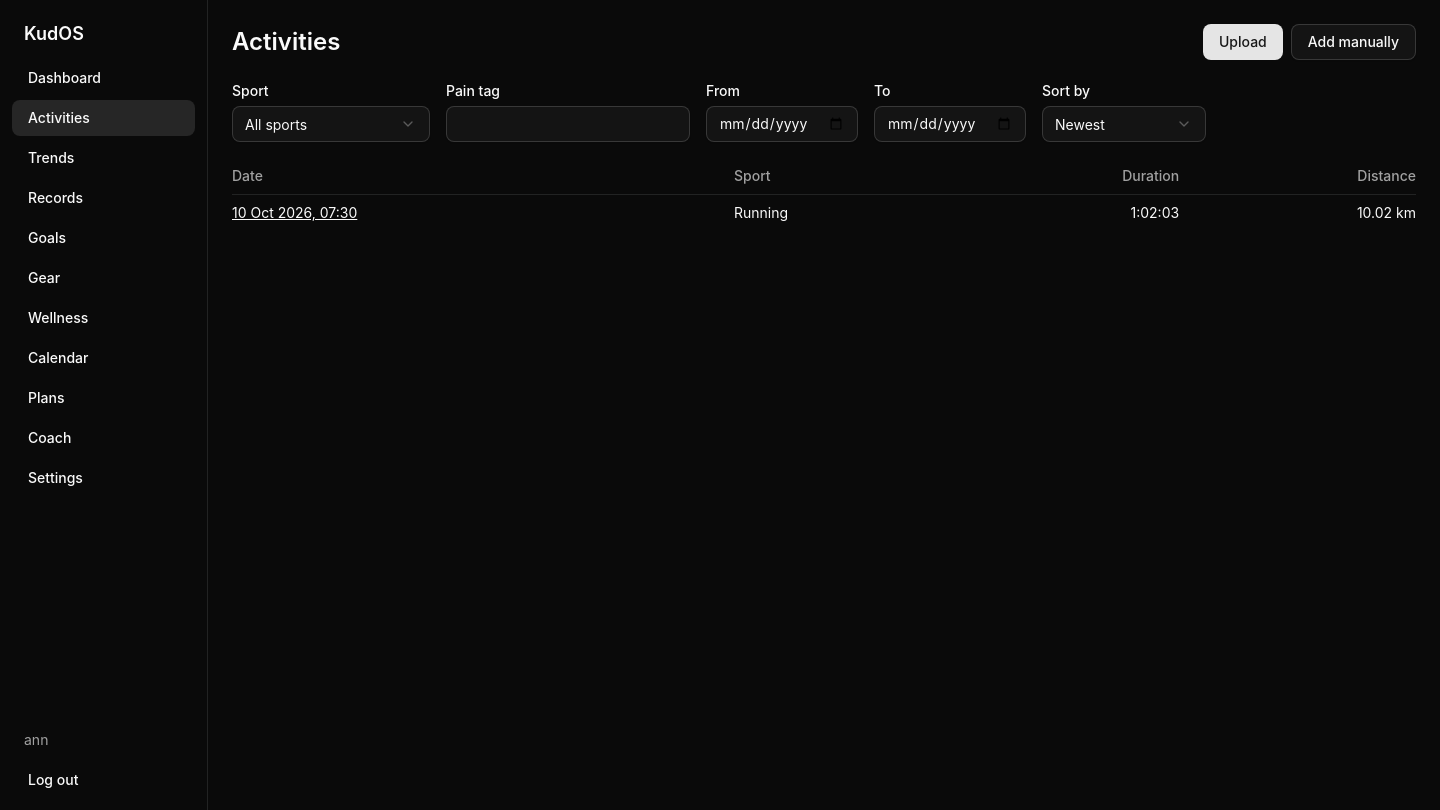
Test: ActivityDetailPage › is reached from the activity list
Click the link "10 Oct 2026, 07:30": (295, 212) [232,204,357,221]
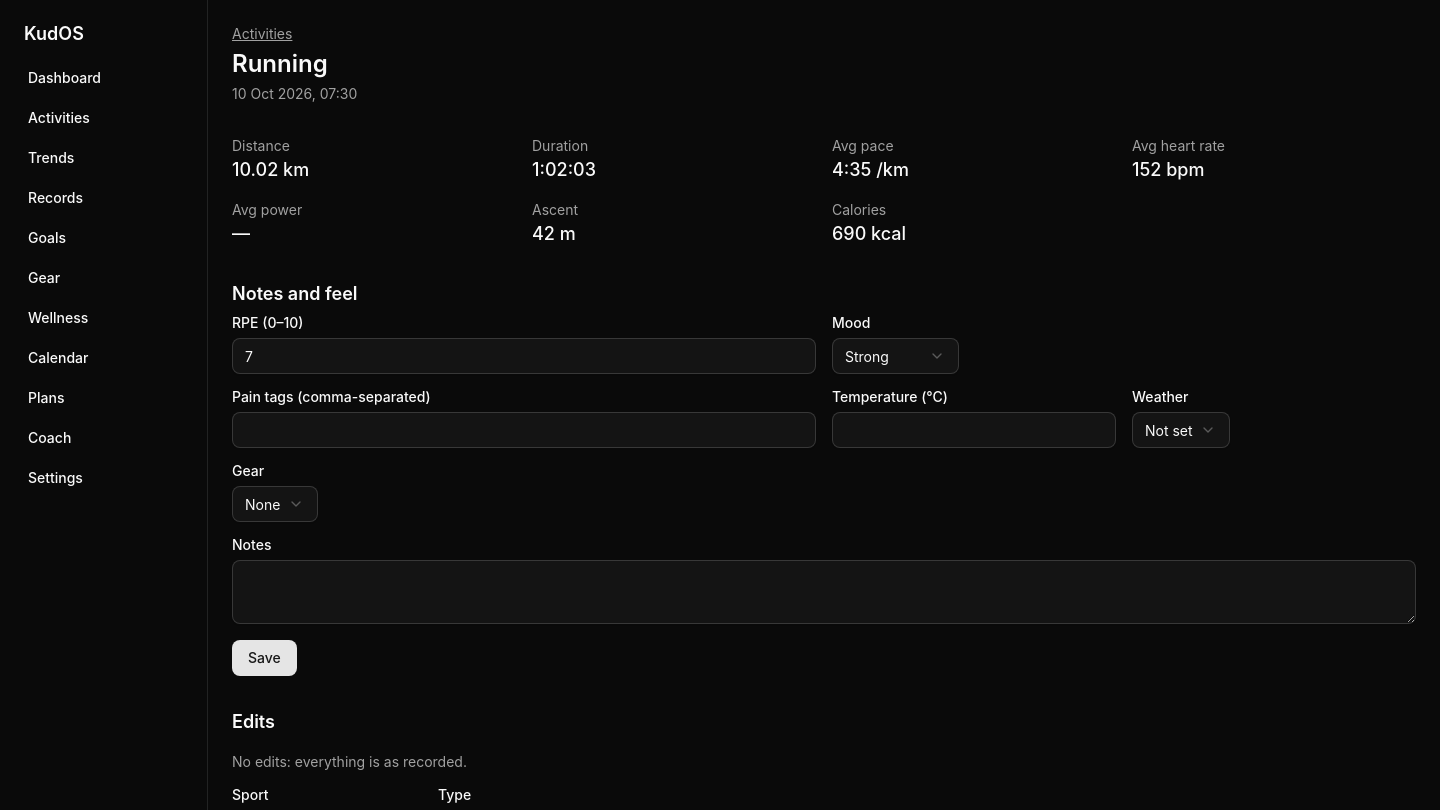
Now the heading "Running" is shown, box [232,49,328,78]
